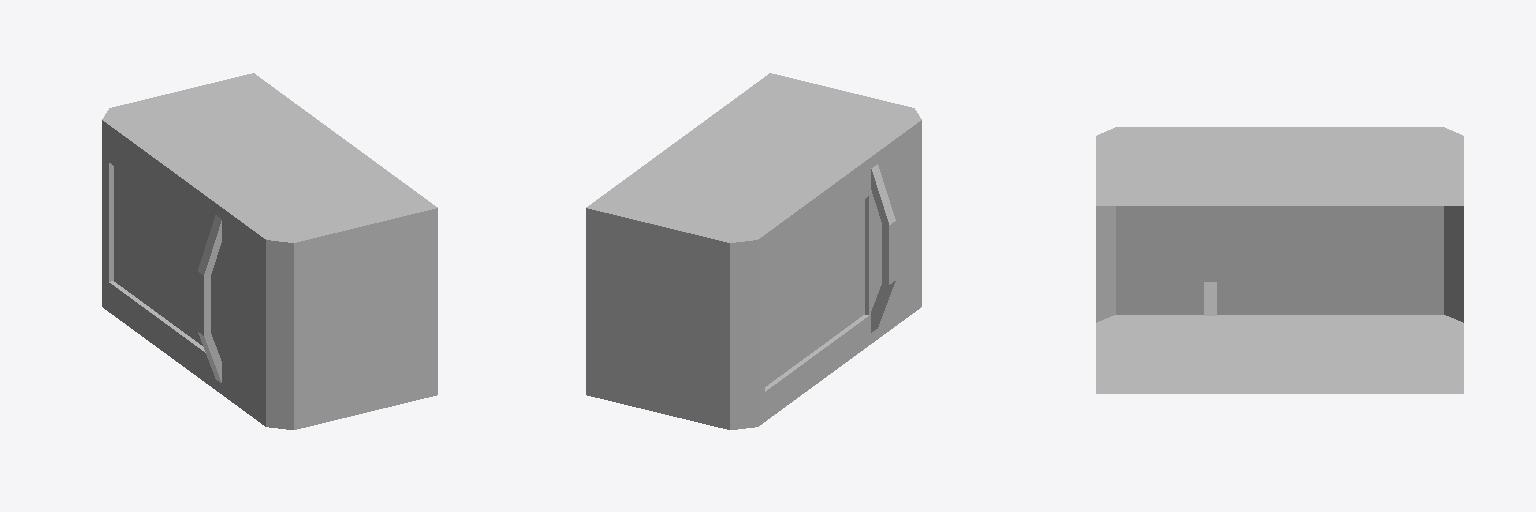
The model's file is Boys_Microwave_01_0201.obj.
The picture shows the model from 3 angles: view 1: azimuth 30°, elevation 25°; view 2: azimuth 150°, elevation 25°; view 3: azimuth 270°, elevation 25°; orthographic projection.
Visible parts, largest first — view 1: Microwave; view 2: Microwave; view 3: Microwave.
Part boxes in pixels (left/top/right/bottom): Microwave: left=102, top=73, right=437, bottom=429; Microwave: left=586, top=73, right=921, bottom=429; Microwave: left=1096, top=127, right=1463, bottom=393.
Bounding box in the file's own units: 1.27 × 1.26 × 2.25.